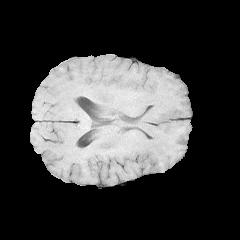glioma: (113, 81, 166, 132)
